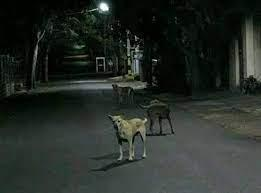dog_aggressive: (142, 99, 174, 138)
normal_dogs: (107, 112, 149, 162), (110, 83, 139, 107)
